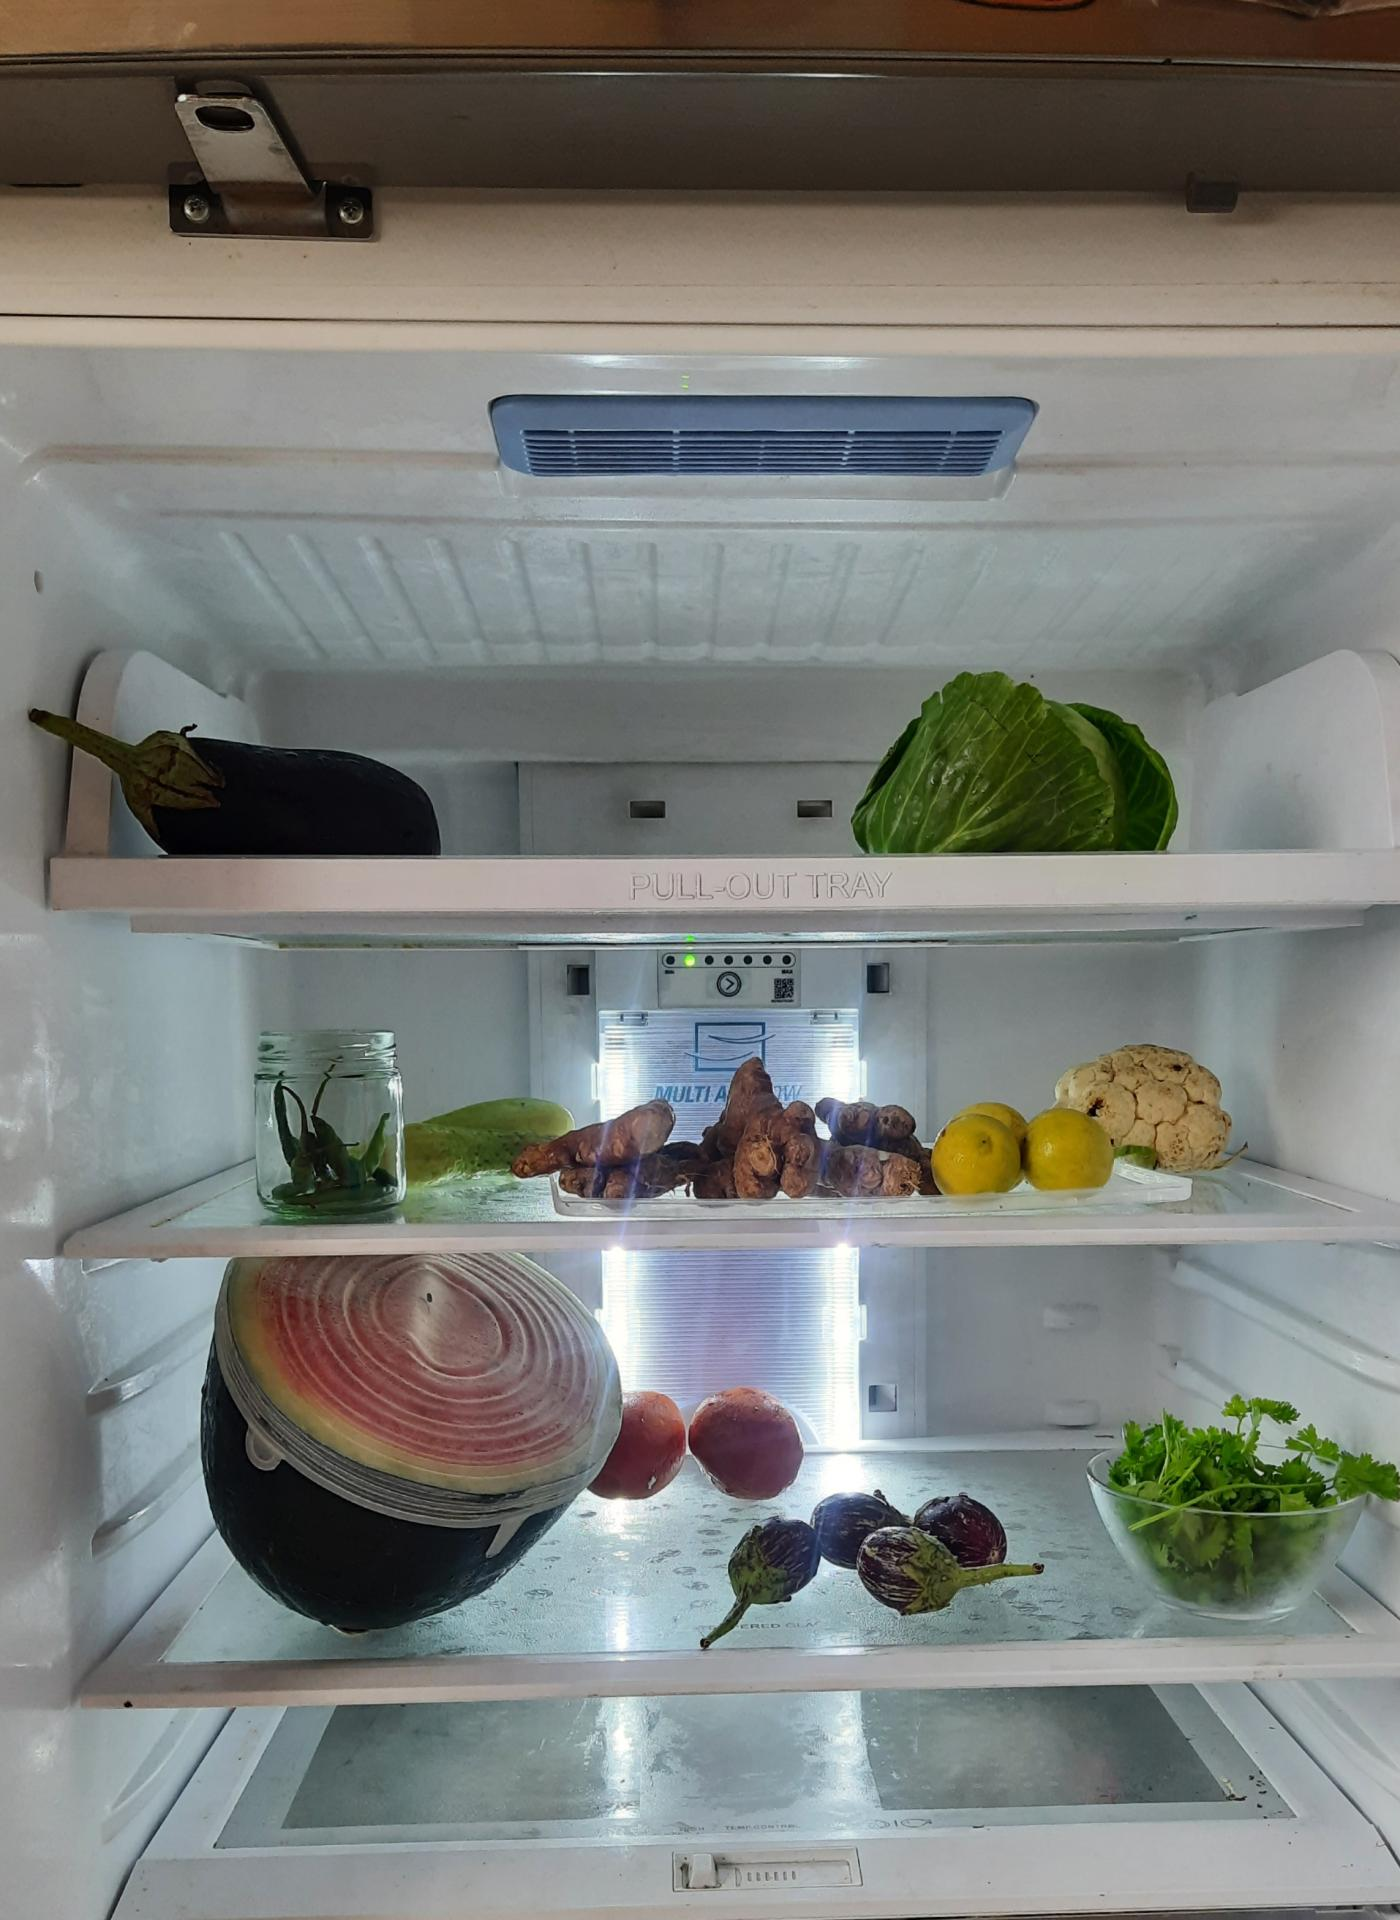brinjal: (70, 707, 452, 862), (720, 1474, 1032, 1622)
cabbage: (853, 669, 1179, 859)
cauliflower: (1044, 1039, 1243, 1172)
chillies: (264, 1049, 404, 1201)
coriander: (1097, 1403, 1396, 1605)
cucumber: (406, 1084, 574, 1184)
ginger: (519, 1070, 965, 1203)
lemon: (930, 1102, 1126, 1197)
tomato: (690, 1382, 810, 1504), (604, 1386, 690, 1503)
watermelon: (188, 1240, 617, 1611)
